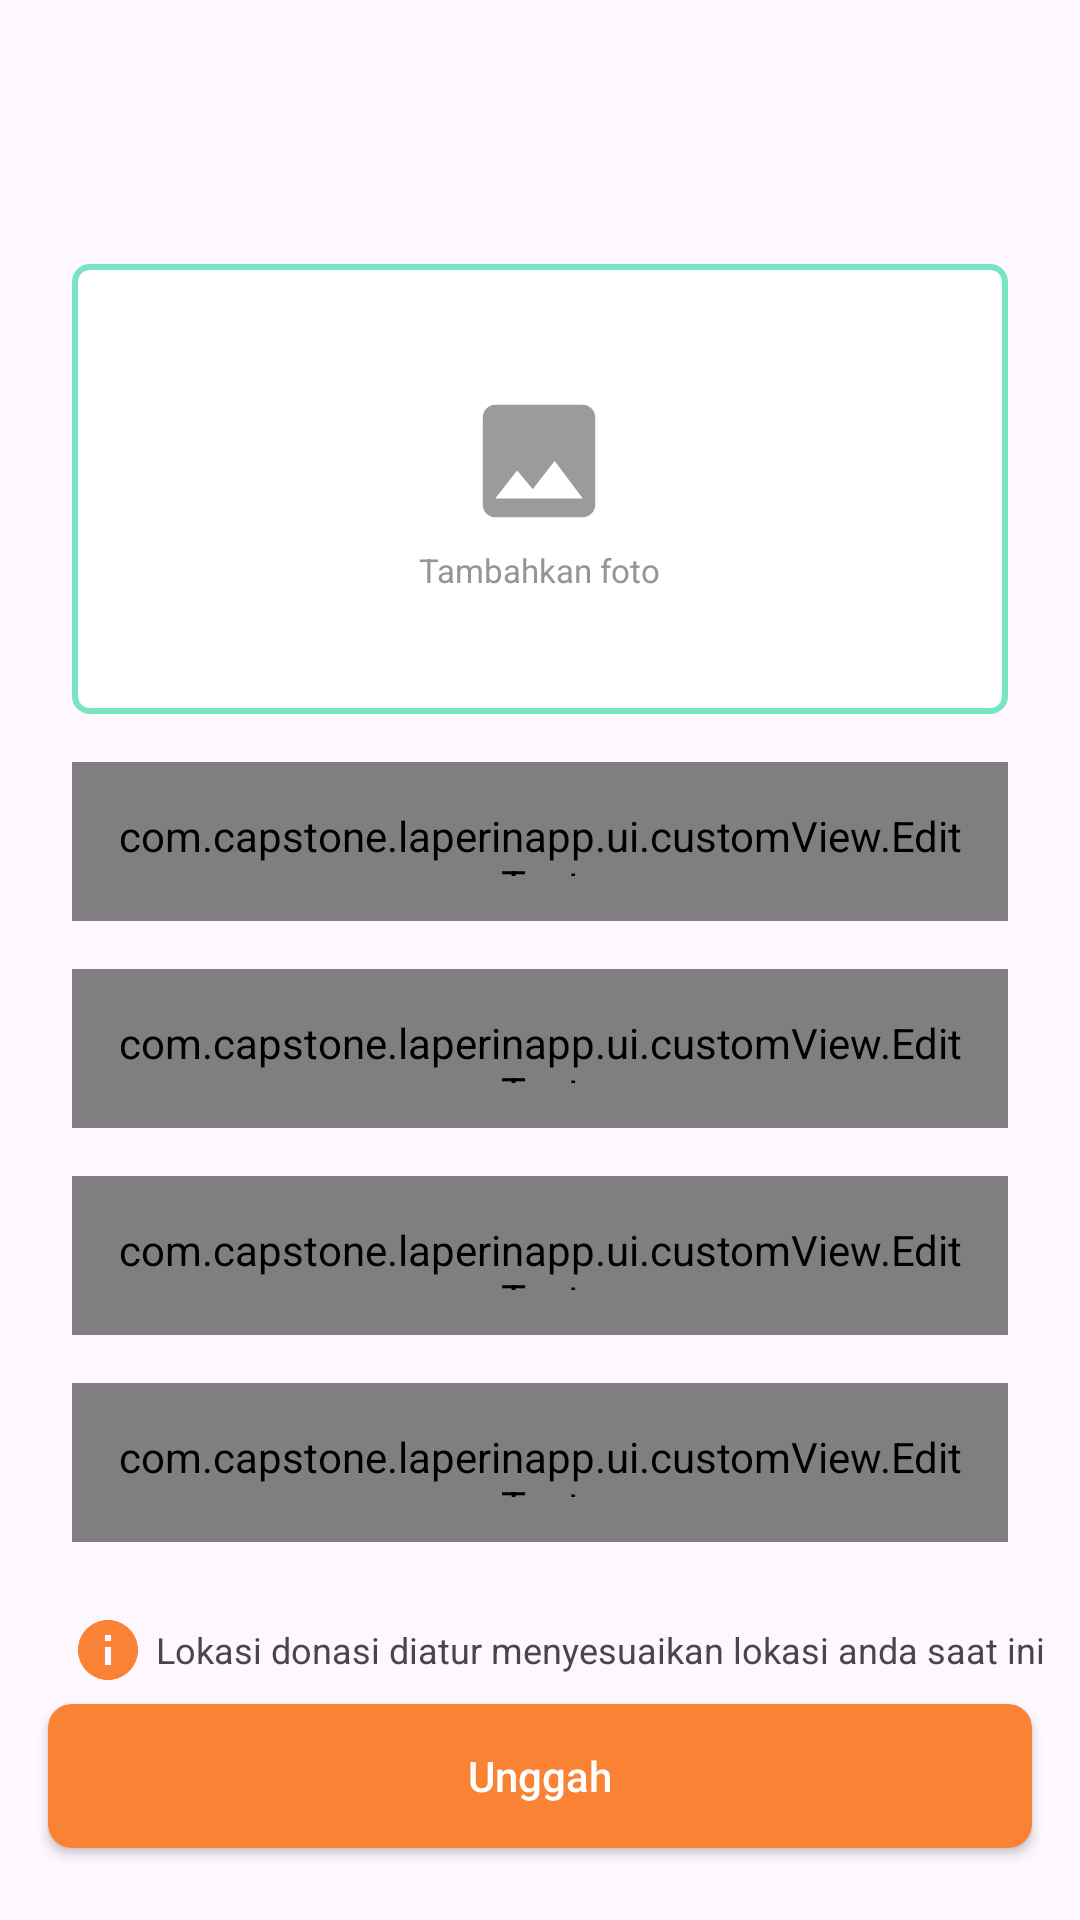

Screen size 1080×1920. Icon name, then its box in pixels as (x1, y1, x2, y2):
info: (78, 1620, 138, 1680)
